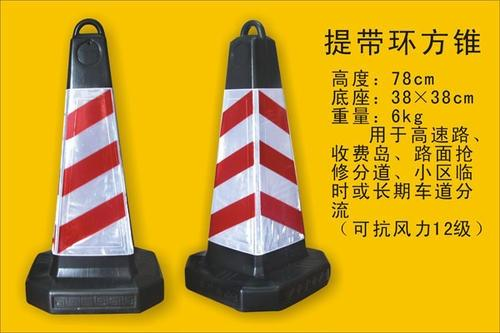cone_barrel: (182, 22, 324, 306), (23, 22, 160, 313)
